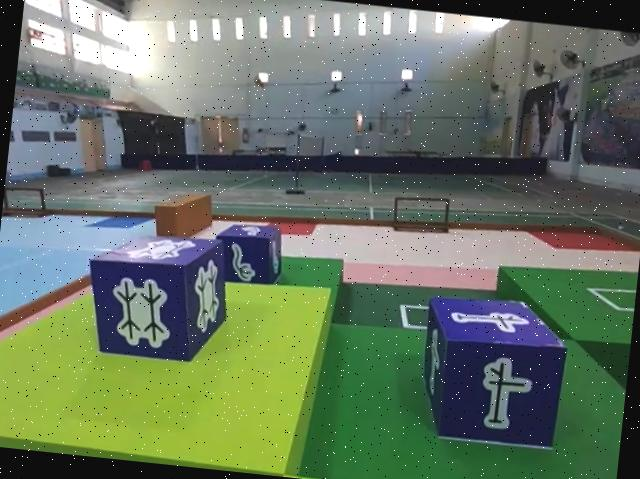R2 Real Blue: (413, 294, 569, 457), (77, 228, 230, 368), (211, 219, 287, 289)
